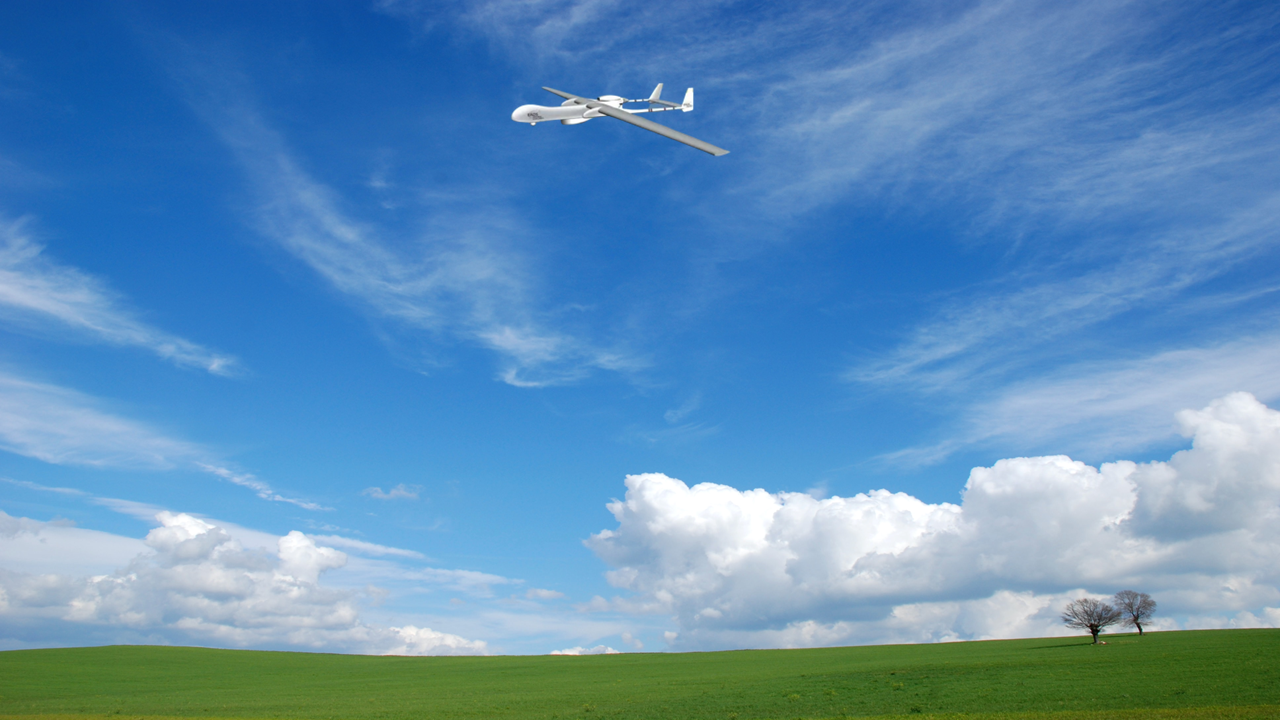military drone: (510, 83, 730, 157)
